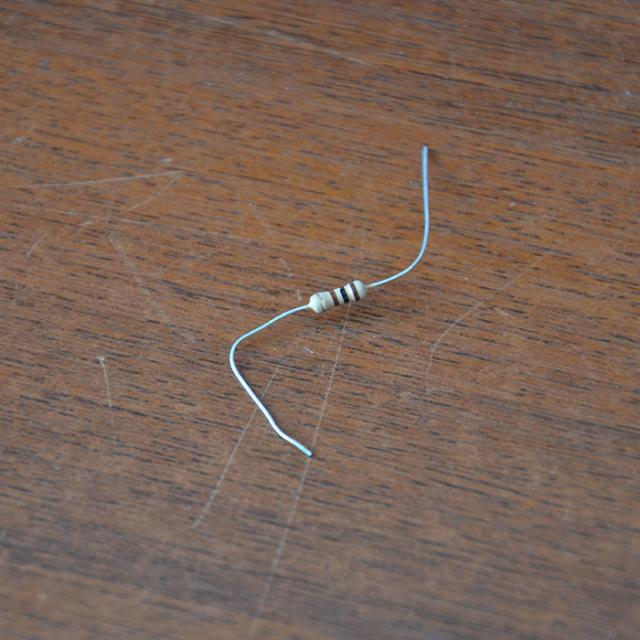black: (341, 286, 349, 302)
brown: (350, 282, 359, 300), (330, 289, 339, 305)
gold: (316, 293, 325, 310)
resistor: (300, 274, 374, 321)
